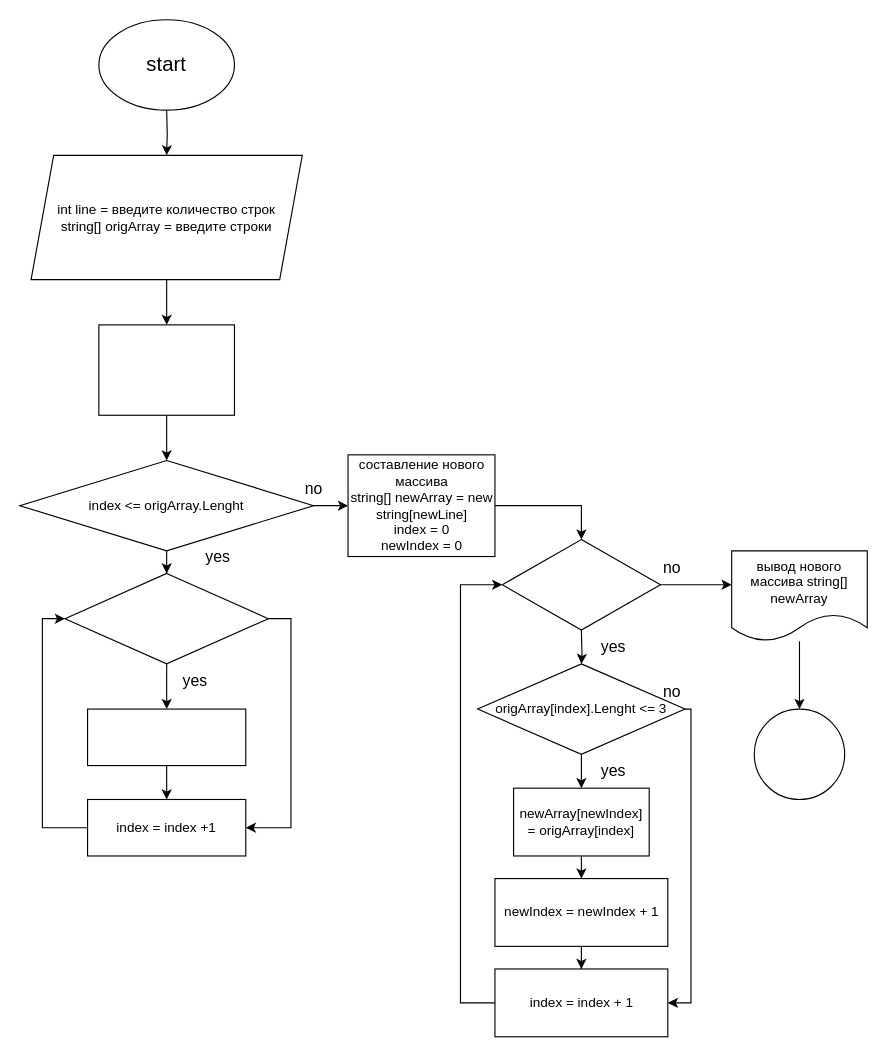
Image size: 887x1057. Some labels were removed from this diagram. The shapes that lost their labels are listed below. From the top down, each one's centre as x and y in pixels, then its label:
At pixel 166 369: "поиск длины нового массива int newLine = 0 int index = 0".
At pixel 580 584: "index <= origArray.Length".
At pixel 166 618: "origArray[ndex].Lenght <= 3".
At pixel 166 737: "newLine = newLine + 1".
At pixel 799 753: "finish".
